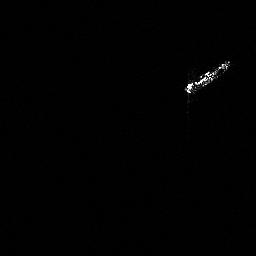ship: (180, 56, 234, 95)
